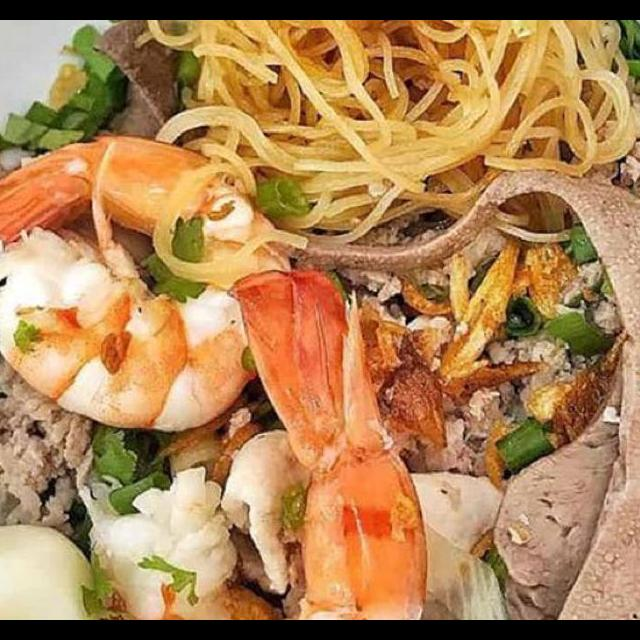banh hu tieu: (127, 21, 640, 288)
gan: (476, 156, 640, 620)
hu tieu: (0, 64, 640, 620)
thit bam: (339, 203, 619, 491), (0, 348, 107, 550), (596, 66, 640, 273)
thit heo: (211, 426, 506, 608), (0, 207, 73, 569)
tom: (0, 126, 303, 437)
trung: (0, 512, 109, 620)
